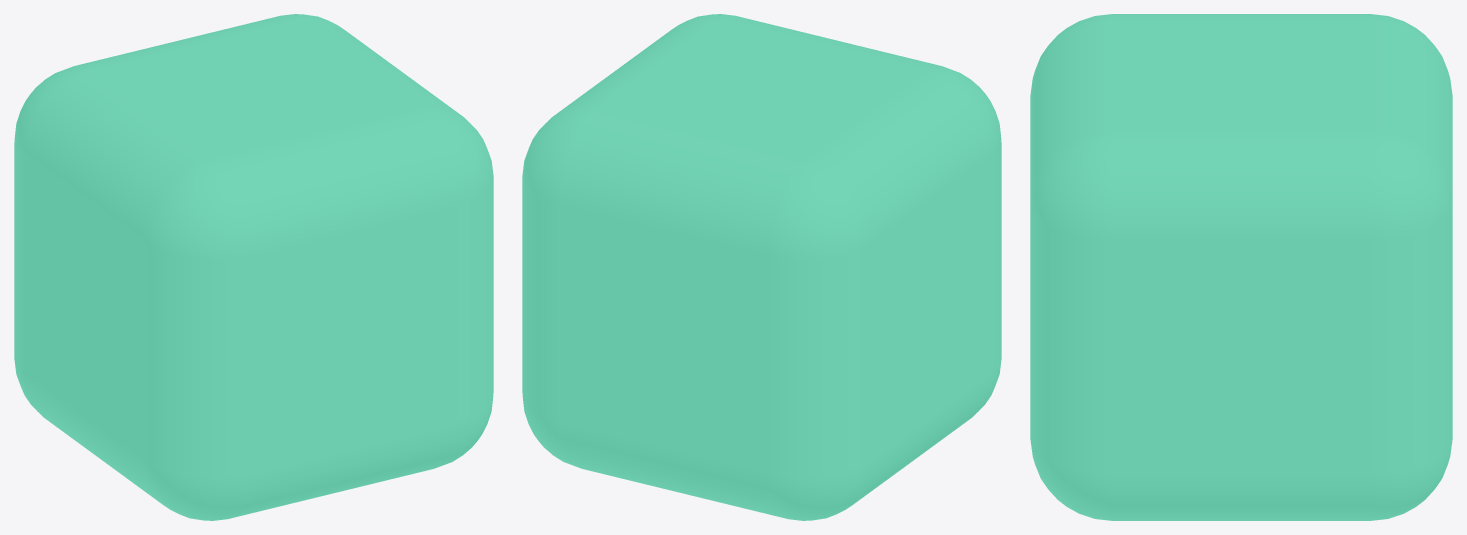
File: hub.glb
3 views of the same model, side by side, from view 1: azimuth 30°, elevation 25°; view 2: azimuth 150°, elevation 25°; view 3: azimuth 270°, elevation 25° (orthographic). The views are drawn at different scales.
Bounding box in the file's own units: 0.92 × 0.92 × 0.92.
